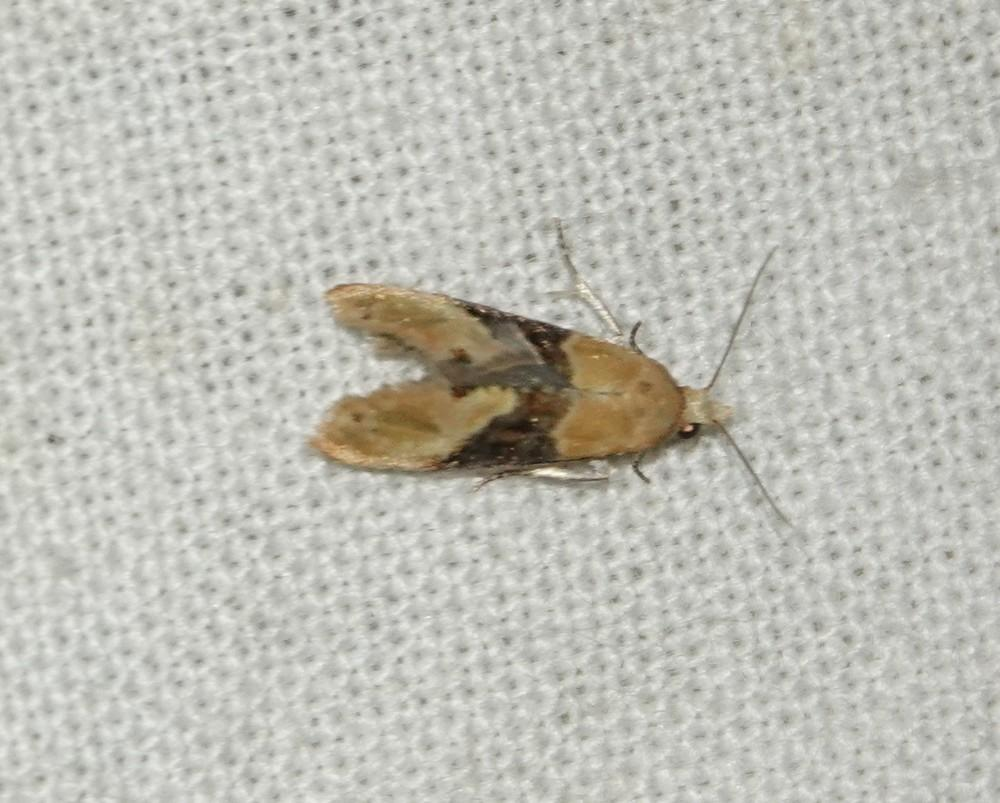Eupoecilia Ambiguella: (306, 215, 801, 536)
